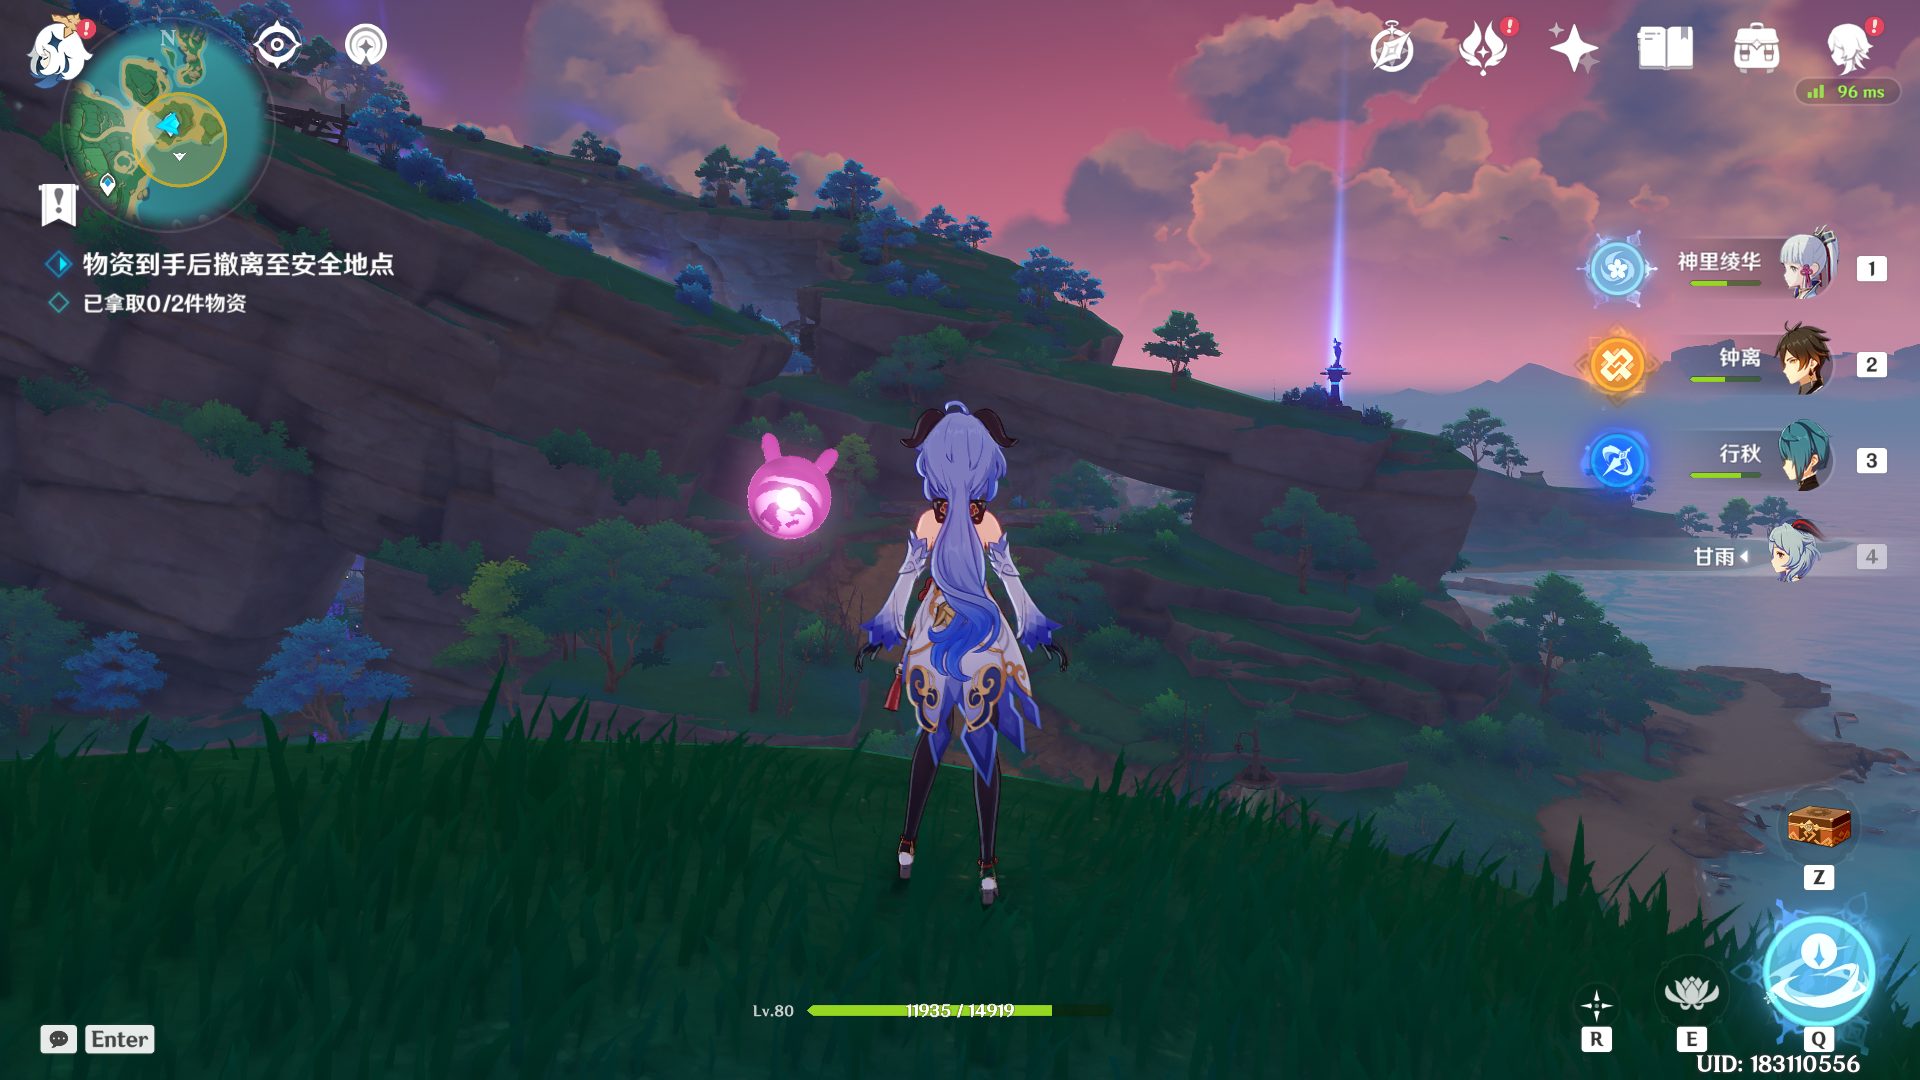character: (837, 392, 1087, 919)
